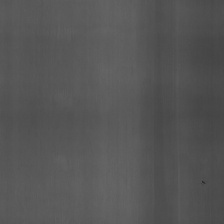inclusion: (199, 176, 209, 189)
